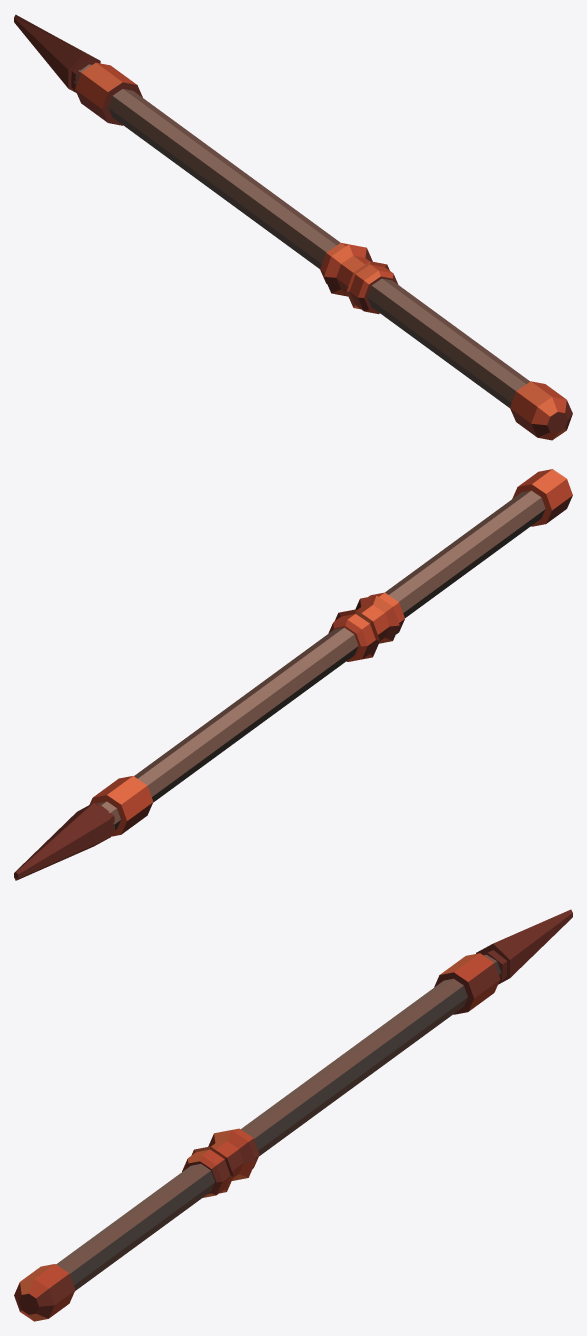
The model's file is reidite_spear.fbx.
The picture shows the model from 3 angles, top to bottom: view 1: azimuth 30°, elevation 25°; view 2: azimuth 150°, elevation 25°; view 3: azimuth 330°, elevation 25°; orthographic projection. The views are drawn at different scales.
Parts seen in each view (by area): view 1: reidite_spear; view 2: reidite_spear; view 3: reidite_spear.
Boxes of the visible parts, bbox=[...] form: reidite_spear: bbox=[14, 14, 572, 440]; reidite_spear: bbox=[14, 469, 572, 880]; reidite_spear: bbox=[14, 909, 572, 1321].
Size of the model in its own units: 0.1615 by 0.1615 by 3.06.
Materials: 1 (1 with a texture image).
